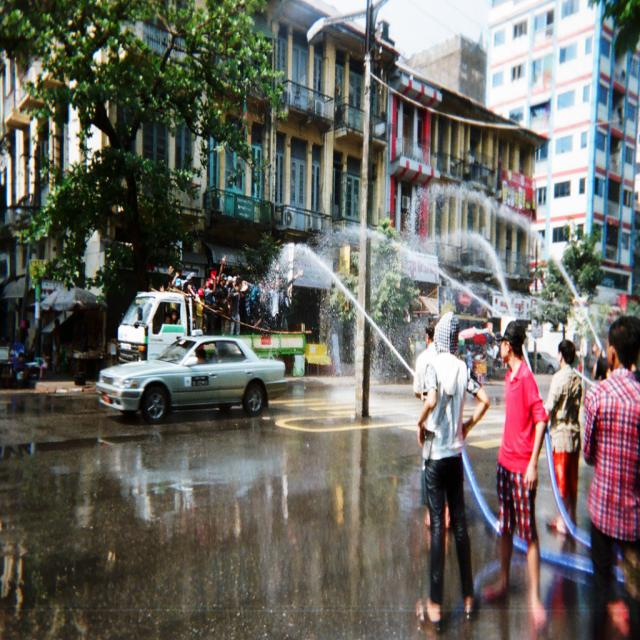car: (94, 326, 283, 422)
